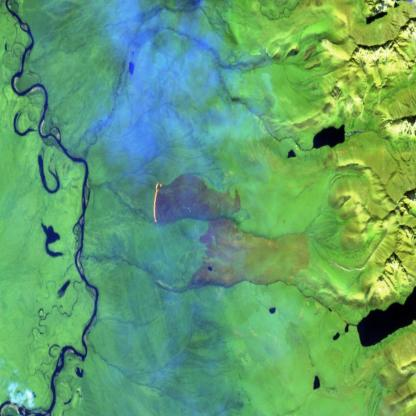fire: (149, 175, 165, 236)
